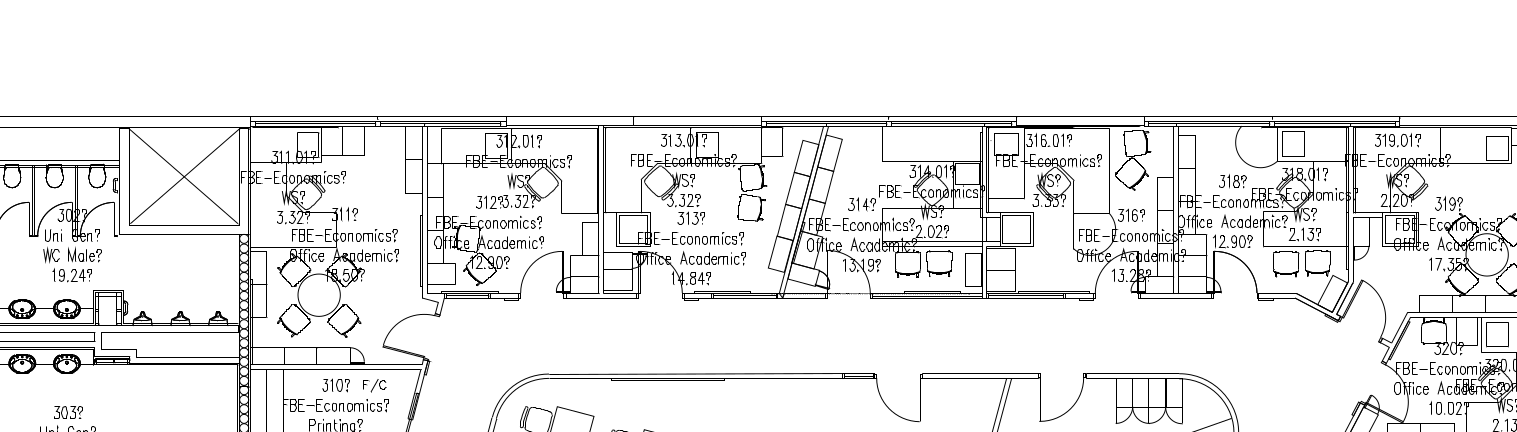door: (1341, 273, 1393, 349), (1209, 246, 1262, 308), (1092, 246, 1145, 308), (1034, 370, 1087, 432), (874, 370, 927, 432), (823, 247, 876, 309), (638, 248, 691, 310), (514, 246, 567, 308), (381, 297, 434, 359), (1359, 360, 1412, 422)
